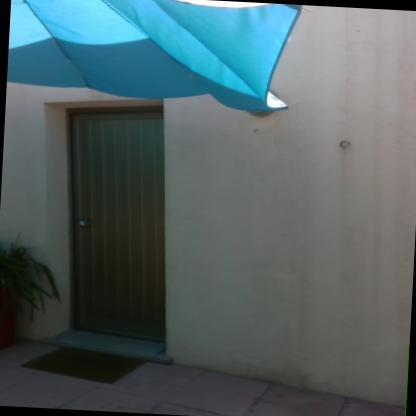closed: (26, 86, 180, 363)
